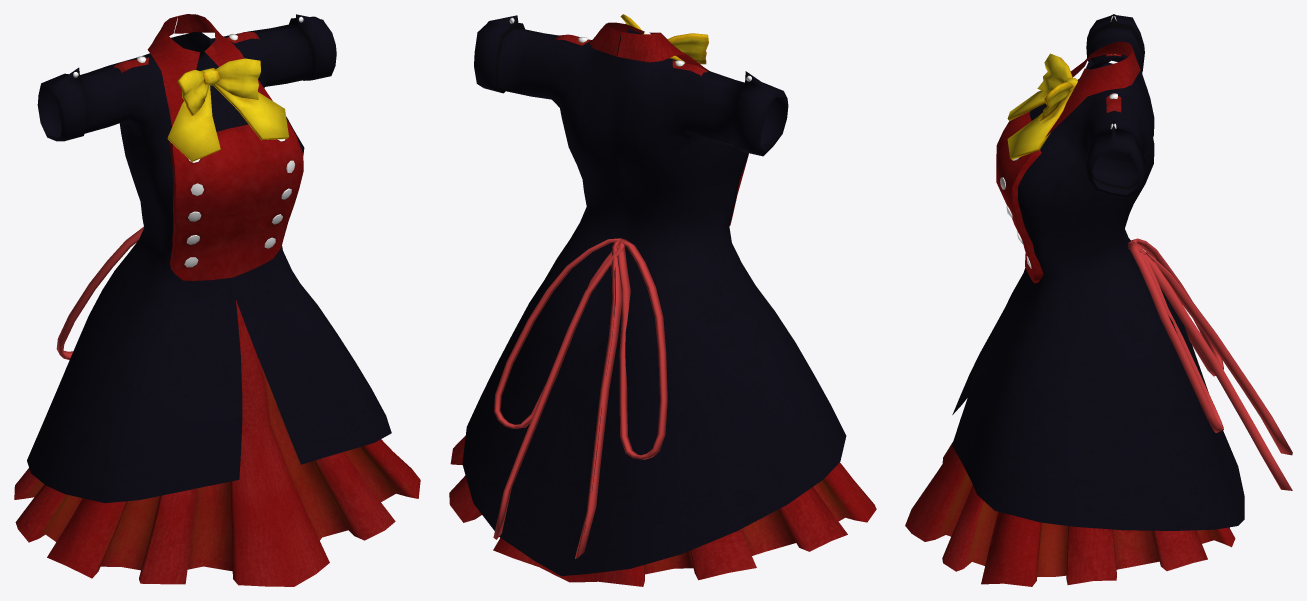
File: cloth-sample.fbx
The picture shows the model from 3 angles, left to right: view 1: azimuth 30°, elevation 25°; view 2: azimuth 150°, elevation 25°; view 3: azimuth 270°, elevation 25°; orthographic projection. The views are drawn at different scales.
Visible parts, largest first — view 1: 服, スカート裏, 前のヤツ, 胸リボン, えりそで, リボン輪, エポーレット; view 2: 服, スカート裏, リボン輪, リボン紐, えりそで, 胸リボン; view 3: 服, スカート裏, リボン紐, リボン輪, 胸リボン, 前のヤツ, えりそで.
Boxes of the visible parts, bbox=[...] form: 服: bbox=[27, 14, 391, 503]; スカート裏: bbox=[14, 300, 420, 586]; 前のヤツ: bbox=[169, 120, 303, 280]; 胸リボン: bbox=[167, 58, 288, 161]; えりそで: bbox=[147, 14, 272, 126]; リボン輪: bbox=[56, 226, 143, 359]; エポーレット: bbox=[114, 32, 259, 73]; 服: bbox=[462, 15, 846, 576]; スカート裏: bbox=[449, 436, 876, 586]; リボン輪: bbox=[494, 238, 667, 459]; リボン紐: bbox=[493, 241, 624, 558]; えりそで: bbox=[589, 22, 708, 70]; 胸リボン: bbox=[620, 14, 708, 64]; 服: bbox=[952, 14, 1244, 530]; スカート裏: bbox=[905, 441, 1235, 586]; リボン紐: bbox=[1128, 243, 1292, 490]; リボン輪: bbox=[1128, 238, 1223, 432]; 胸リボン: bbox=[1007, 53, 1077, 159]; 前のヤツ: bbox=[996, 111, 1043, 283]; えりそで: bbox=[1045, 41, 1140, 137].
Bounding box in the file's own units: 57.57 × 73.45 × 54.1.
